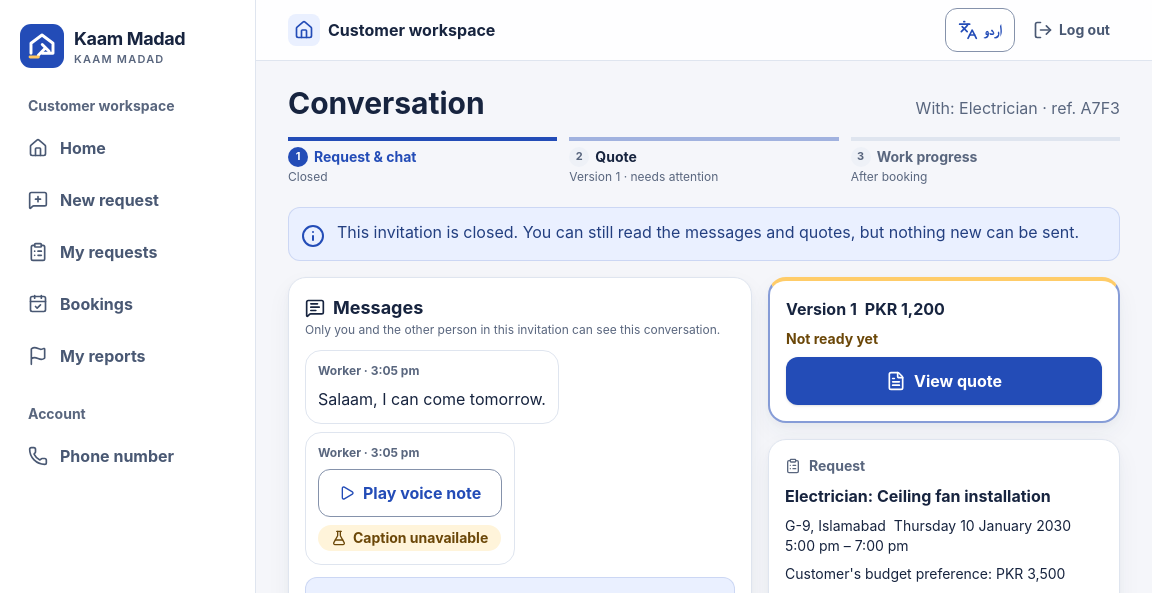
conversation messages › a closed invitation keeps the history readable but offers no composer
Expected: the text "This invitation is closed. You can still read the messages and quotes, but nothing new can be sent." is shown, [337, 222, 1079, 242]
Expected: the text "Salaam, I can come tomorrow." is shown, [318, 387, 546, 411]
// The quote stays readable on its own screen, with the reason it cannot be accepted.
Click the link "View quote" at (944, 381), box [786, 357, 1102, 405]
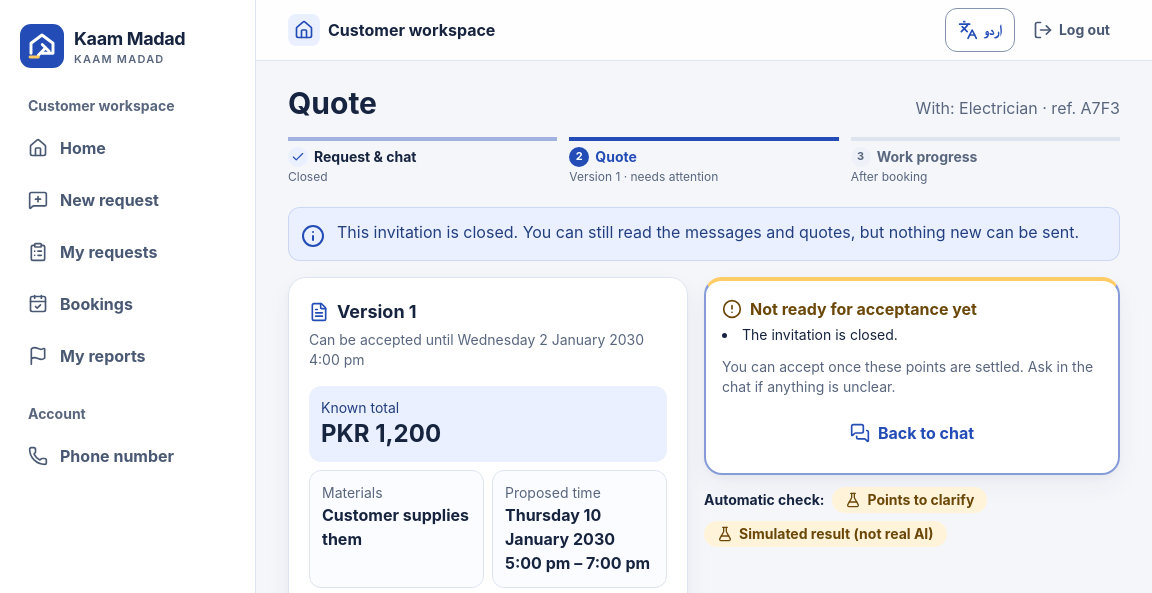
Now the list item "The invitation is closed." is shown, box [742, 326, 898, 343]
